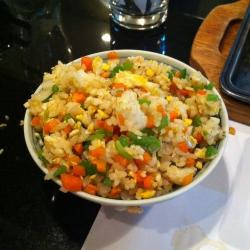rice: (31, 54, 226, 205)
